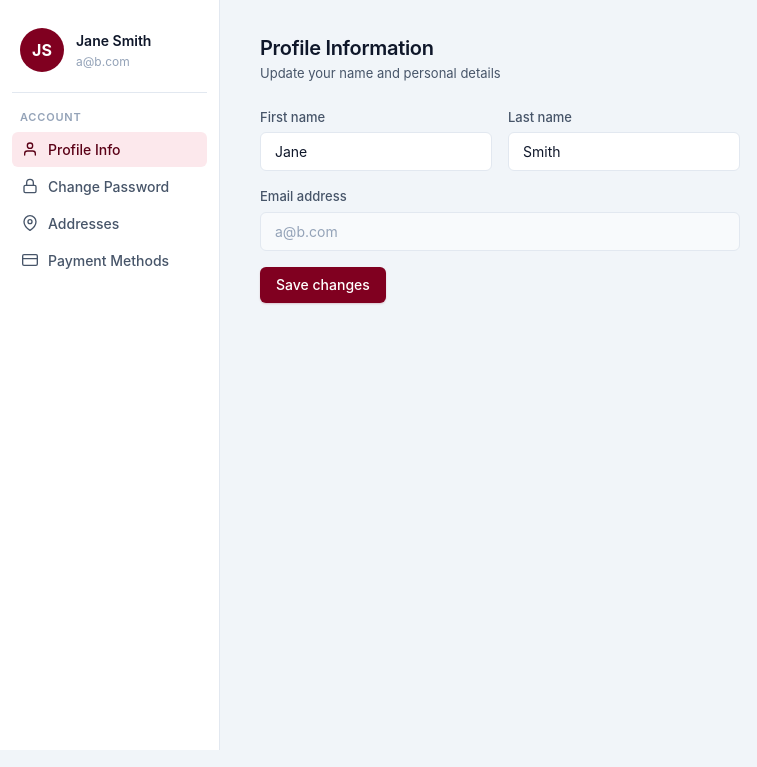
Scenario: Profile page › ProfileInfoTab › shows success banner after save
The width and height of the screenshot is (757, 767).
Click the button "Save changes": point(323, 284) [260,266,386,302]
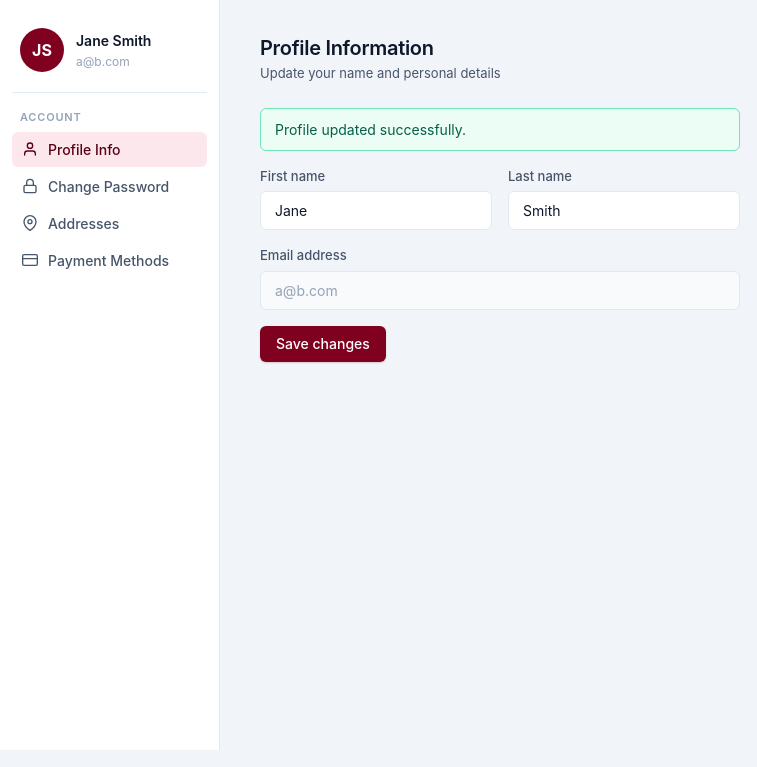
Expected: the text "Profile updated successfully." is shown, [260,108,740,150]
